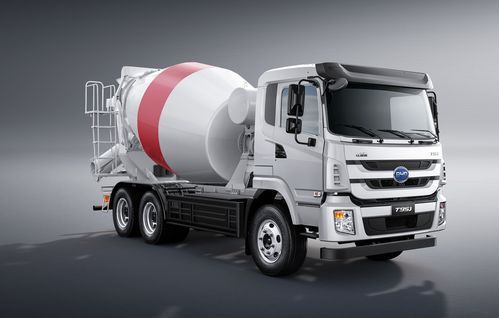卡车: (75, 29, 473, 299)
